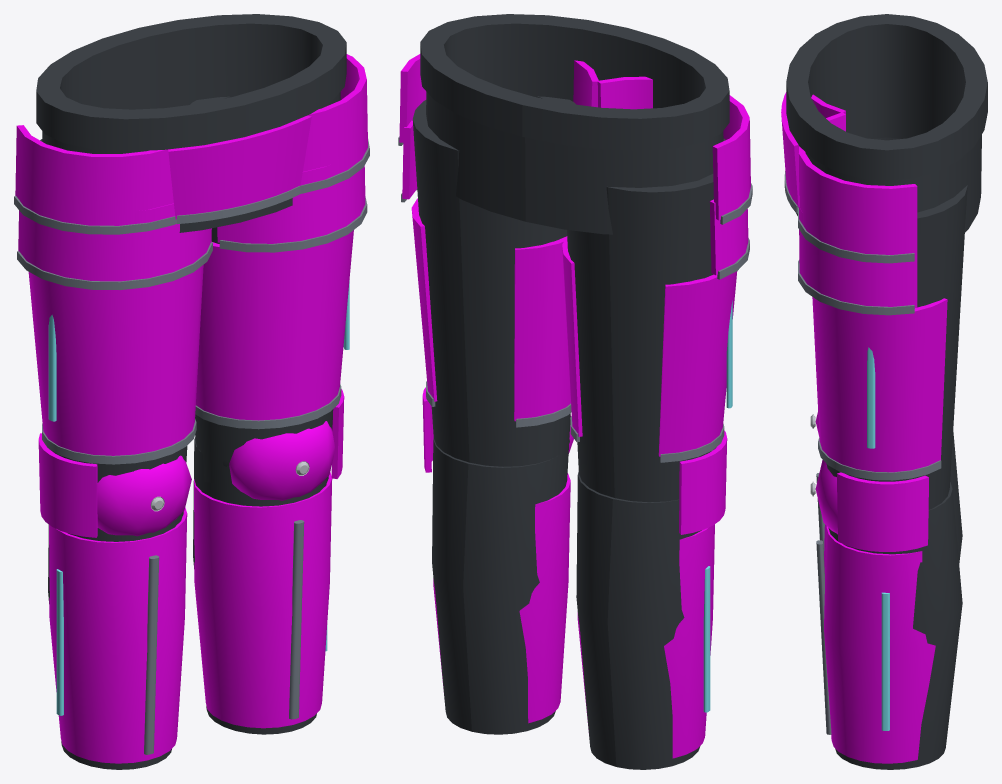
Rendered from porte_armure4_jambieres.glb.
The picture shows the model from 3 angles, left to right: view 1: azimuth 30°, elevation 25°; view 2: azimuth 150°, elevation 25°; view 3: azimuth 270°, elevation 25°; orthographic projection. The views are drawn at different scales.
Parts seen in each view (by area): view 1: cuisse_d__jambieres_teinte.010, jambe_d__jambieres_teinte.010, bassin__jambieres_teinte_sombre.008, cuisse_g__jambieres_teinte.010, jambe_g__jambieres_teinte.010, bassin__jambieres_teinte.010, cuisse_d__jambieres_acier_lisere.002, cuisse_g__jambieres_teinte_sombre.008, cuisse_g__jambieres_acier_lisere.002, jambe_g__jambieres_teinte_sombre.008, jambe_d__jambieres_acier_lisere.002, jambe_g__jambieres_acier_lisere.002 (+5 smaller); view 2: bassin__jambieres_teinte_sombre.008, cuisse_d__jambieres_teinte_sombre.008, cuisse_g__jambieres_teinte_sombre.008, jambe_g__jambieres_teinte_sombre.008, jambe_d__jambieres_teinte_sombre.008, cuisse_d__jambieres_teinte.010, cuisse_g__jambieres_teinte.010, jambe_d__jambieres_teinte.010, jambe_g__jambieres_teinte.010, cuisse_d__jambieres_acier_lisere.002, jambe_d__jambieres_lueur.002, cuisse_g__jambieres_acier_lisere.002 (+1 smaller); view 3: cuisse_g__jambieres_teinte.010, bassin__jambieres_teinte_sombre.008, jambe_g__jambieres_teinte.010, jambe_g__jambieres_teinte_sombre.008, cuisse_g__jambieres_teinte_sombre.008, cuisse_g__jambieres_acier_lisere.002, jambe_g__jambieres_lueur.002, bassin__jambieres_teinte.010, jambe_g__jambieres_acier_lisere.002, cuisse_g__jambieres_lueur.002, jambe_d__jambieres_teinte_sombre.008.
Part boxes in pixels (x1,y1,x2,y2): cuisse_d__jambieres_teinte.010: [15, 125, 211, 455]; jambe_d__jambieres_teinte.010: [38, 433, 191, 763]; bassin__jambieres_teinte_sombre.008: [36, 14, 346, 232]; cuisse_g__jambieres_teinte.010: [196, 54, 367, 420]; jambe_g__jambieres_teinte.010: [194, 389, 344, 728]; bassin__jambieres_teinte.010: [168, 115, 311, 219]; cuisse_d__jambieres_acier_lisere.002: [14, 196, 212, 464]; cuisse_g__jambieres_teinte_sombre.008: [190, 96, 333, 502]; cuisse_g__jambieres_acier_lisere.002: [195, 139, 369, 429]; jambe_g__jambieres_teinte_sombre.008: [193, 437, 326, 734]; jambe_d__jambieres_acier_lisere.002: [144, 555, 159, 754]; jambe_g__jambieres_acier_lisere.002: [289, 520, 304, 719]; bassin__jambieres_teinte_sombre.008: [420, 14, 729, 234]; cuisse_d__jambieres_teinte_sombre.008: [567, 139, 725, 502]; cuisse_g__jambieres_teinte_sombre.008: [412, 96, 575, 486]; jambe_g__jambieres_teinte_sombre.008: [432, 438, 569, 734]; jambe_d__jambieres_teinte_sombre.008: [576, 472, 701, 769]; cuisse_d__jambieres_teinte.010: [562, 76, 750, 456]; cuisse_g__jambieres_teinte.010: [399, 54, 598, 421]; jambe_d__jambieres_teinte.010: [577, 430, 727, 758]; jambe_g__jambieres_teinte.010: [422, 387, 573, 723]; cuisse_d__jambieres_acier_lisere.002: [570, 183, 752, 462]; jambe_d__jambieres_lueur.002: [703, 566, 710, 712]; cuisse_g__jambieres_acier_lisere.002: [398, 136, 571, 427]; cuisse_g__jambieres_teinte.010: [798, 112, 947, 472]; bassin__jambieres_teinte_sombre.008: [786, 14, 987, 232]; jambe_g__jambieres_teinte.010: [815, 460, 935, 763]; jambe_g__jambieres_teinte_sombre.008: [828, 482, 962, 769]; cuisse_g__jambieres_teinte_sombre.008: [826, 185, 967, 553]; cuisse_g__jambieres_acier_lisere.002: [798, 207, 941, 480]; jambe_g__jambieres_lueur.002: [881, 592, 889, 730]; bassin__jambieres_teinte.010: [781, 92, 799, 207]; jambe_g__jambieres_acier_lisere.002: [816, 540, 831, 734]; cuisse_g__jambieres_lueur.002: [867, 347, 875, 448]; jambe_d__jambieres_teinte_sombre.008: [950, 432, 962, 563].
Bounding box in the file's own units: 0.4379 × 0.83 × 0.246.
